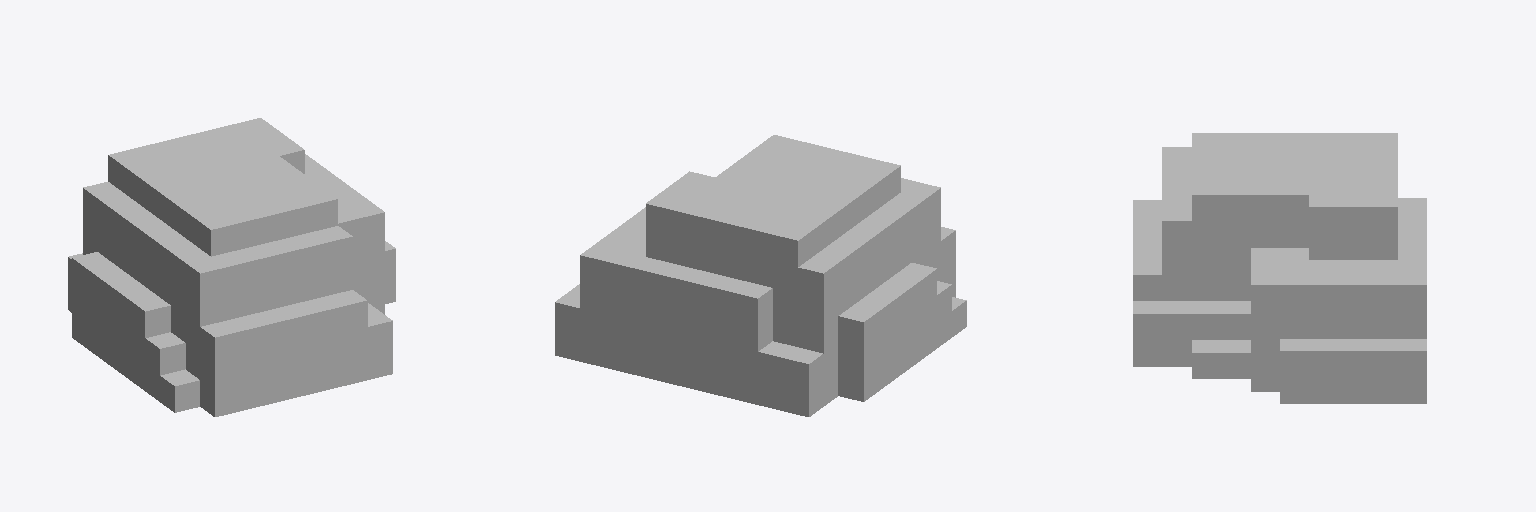
The model's file is Pedra 7.obj.
3 renders of one model, left to right at view 1: azimuth 30°, elevation 25°; view 2: azimuth 150°, elevation 25°; view 3: azimuth 270°, elevation 25°, orthographic.
Parts seen in each view (by area): view 1: object 1; view 2: object 1; view 3: object 1.
Boxes of the visible parts, x1=… form: object 1: x1=68, y1=118, x2=395, y2=416; object 1: x1=555, y1=135, x2=966, y2=416; object 1: x1=1133, y1=133, x2=1426, y2=403.
Bounding box in the file's own units: 1.1 × 0.6 × 1.